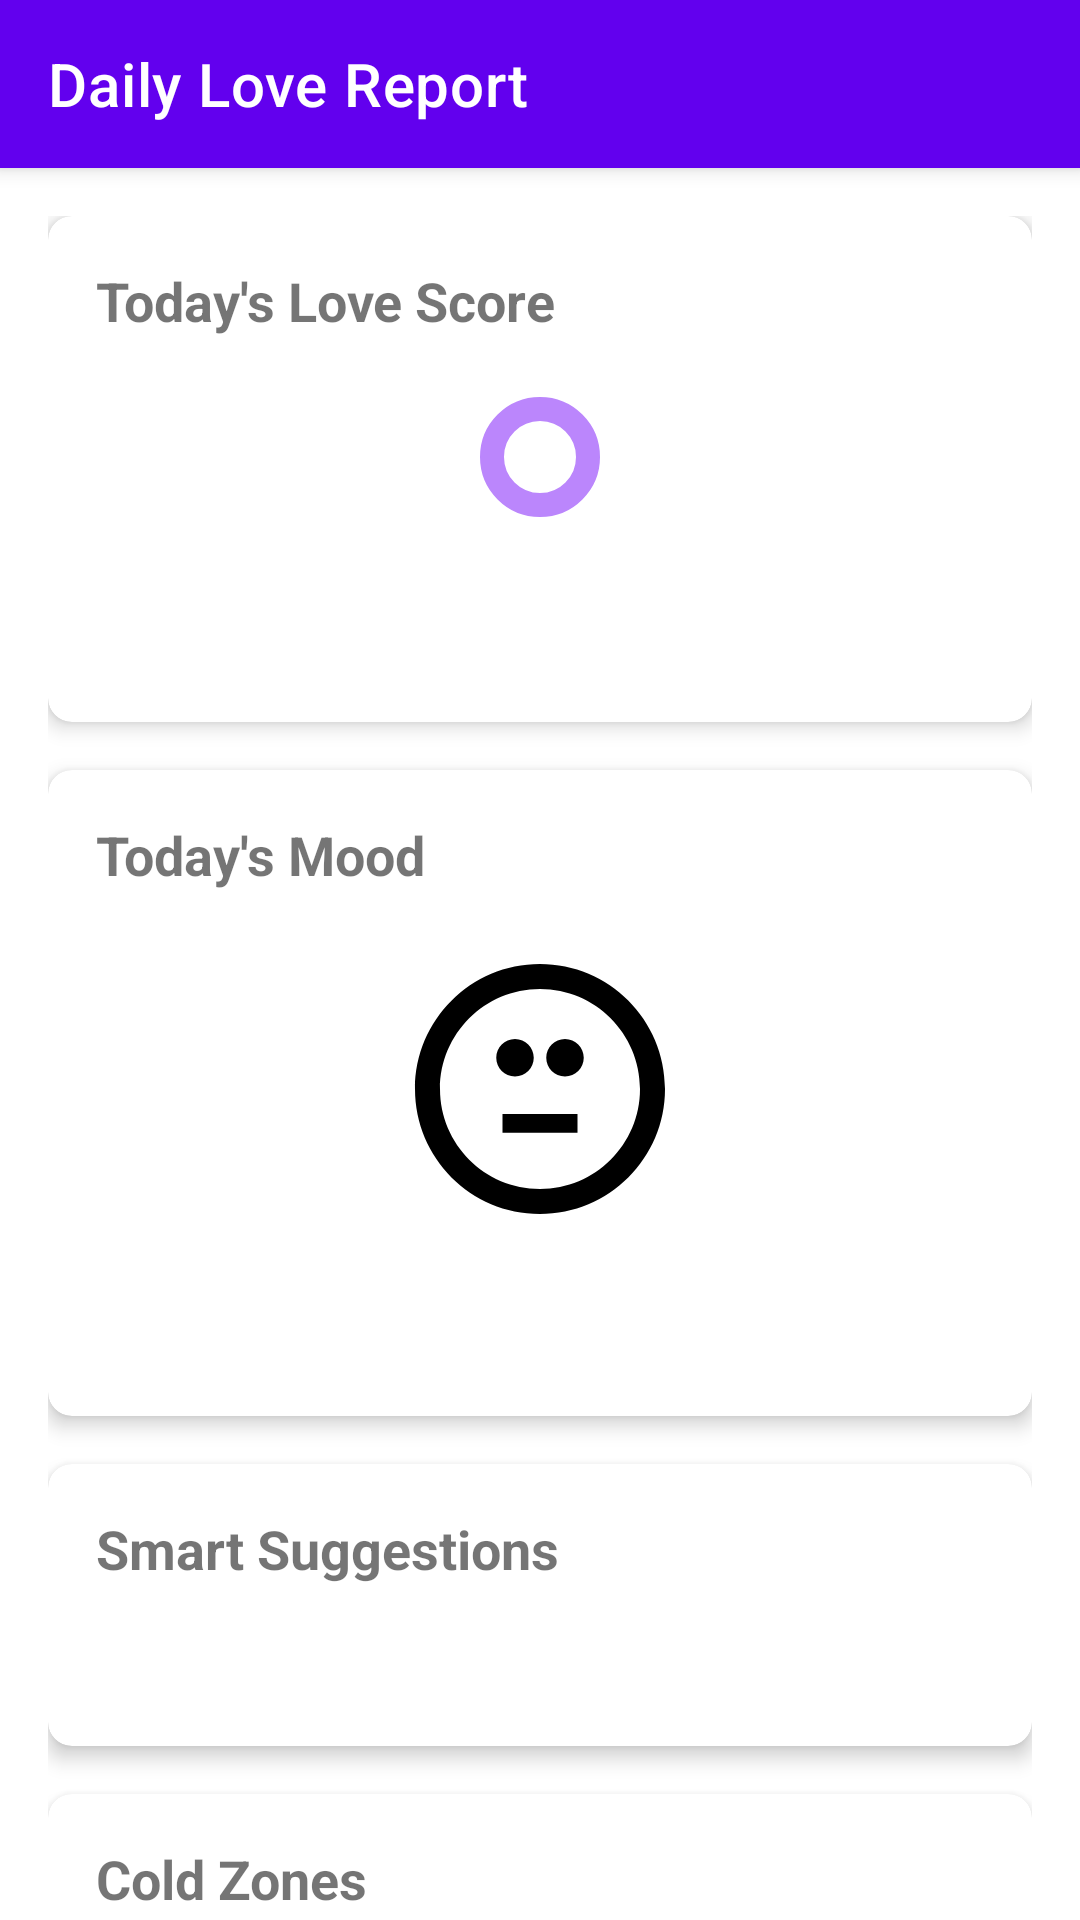

Icons on this 1080w x 1920h Android screen, each with its box as (x1, y1, x2, y2):
mood neutral: (415, 964, 665, 1214)
